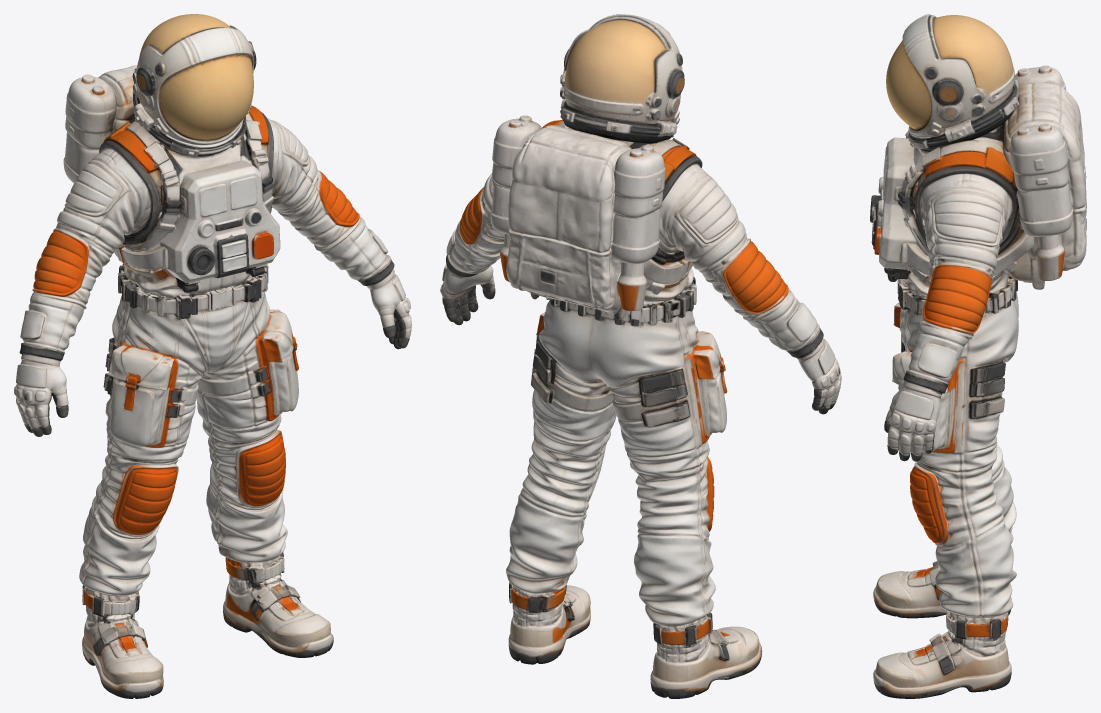
File: astronaut.glb
The picture shows the model from 3 angles, left to right: view 1: azimuth 30°, elevation 25°; view 2: azimuth 150°, elevation 25°; view 3: azimuth 270°, elevation 25°; orthographic projection.
Visible parts, largest first — view 1: astronaut-in-spacesuit; view 2: astronaut-in-spacesuit; view 3: astronaut-in-spacesuit.
Boxes of the visible parts, left/top/right/bottom form: astronaut-in-spacesuit: left=14, top=14, right=411, bottom=698; astronaut-in-spacesuit: left=440, top=14, right=841, bottom=698; astronaut-in-spacesuit: left=870, top=14, right=1086, bottom=698.
Size of the model in its own units: 1.22 by 1.9 by 0.597.
1 material, 1 textured.
